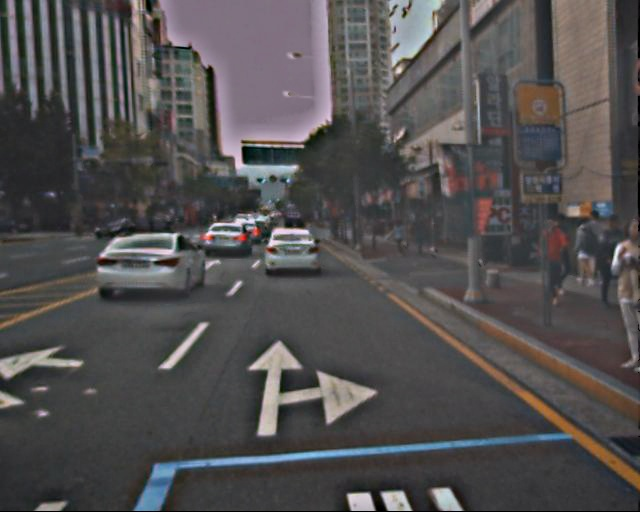person: (596, 214, 640, 368), (568, 209, 620, 304), (534, 217, 571, 308), (408, 214, 426, 258), (391, 221, 405, 256)
